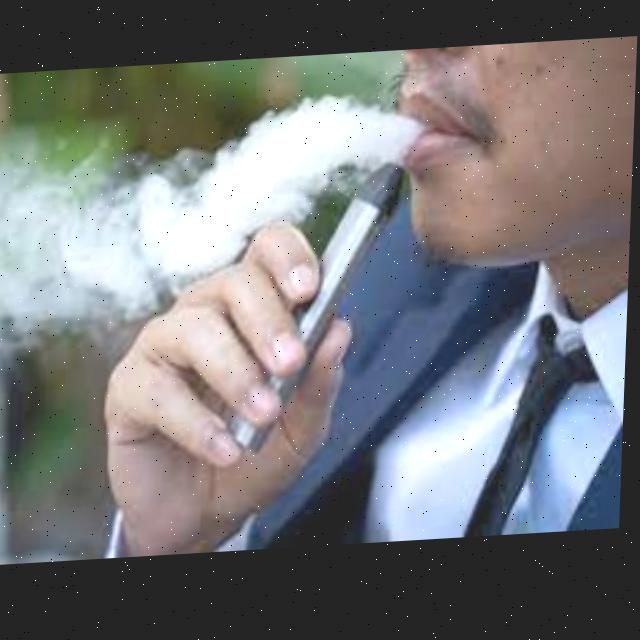vape: (228, 167, 405, 458)
